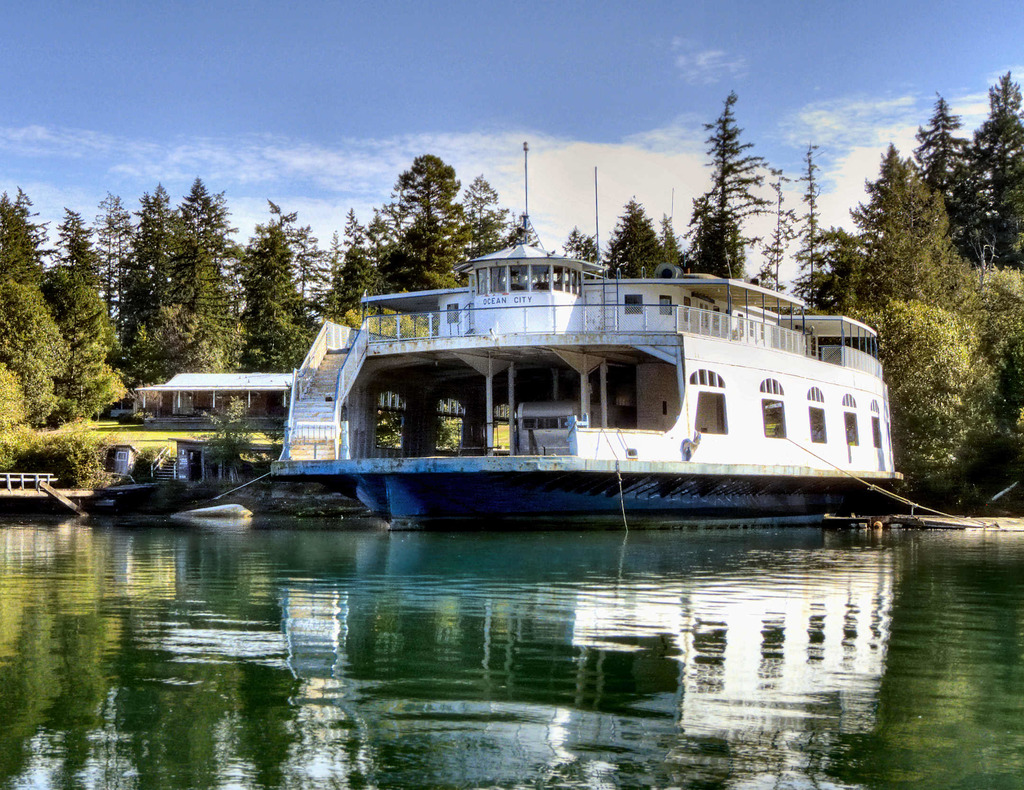Tree: (859, 295, 1003, 481), (928, 257, 1023, 450), (905, 85, 997, 279), (690, 90, 772, 293), (160, 176, 252, 356), (965, 68, 1023, 302), (386, 147, 477, 296), (231, 212, 307, 361), (167, 231, 241, 378), (785, 137, 835, 316), (126, 185, 181, 338), (852, 144, 905, 300), (0, 183, 56, 329), (318, 202, 374, 348), (785, 227, 870, 323), (49, 201, 103, 350), (40, 266, 115, 370), (0, 273, 55, 407), (46, 329, 122, 423), (447, 170, 510, 275), (193, 391, 259, 491), (276, 201, 334, 313), (597, 198, 673, 280), (90, 187, 133, 329), (154, 297, 225, 375), (693, 198, 752, 281), (112, 308, 163, 400), (343, 293, 433, 344), (334, 227, 375, 334), (0, 189, 34, 302), (258, 302, 311, 370), (0, 353, 34, 427), (549, 218, 594, 269), (657, 209, 689, 280), (385, 197, 409, 282), (371, 211, 396, 291), (507, 205, 541, 252)
